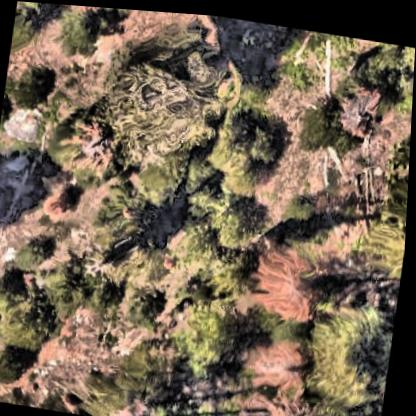tree-top: (91, 14, 245, 172), (176, 180, 277, 291), (298, 295, 392, 412), (205, 100, 293, 203), (171, 290, 257, 379), (37, 251, 132, 321), (354, 170, 410, 273), (80, 350, 160, 416), (0, 279, 67, 357), (134, 137, 196, 211), (295, 89, 358, 151), (4, 55, 60, 117), (123, 274, 178, 333), (50, 3, 107, 58), (161, 385, 257, 416), (12, 224, 64, 275), (307, 26, 370, 57), (0, 337, 36, 390), (10, 1, 41, 57), (386, 59, 415, 109), (389, 121, 412, 172), (391, 39, 415, 65), (18, 1, 52, 11)
